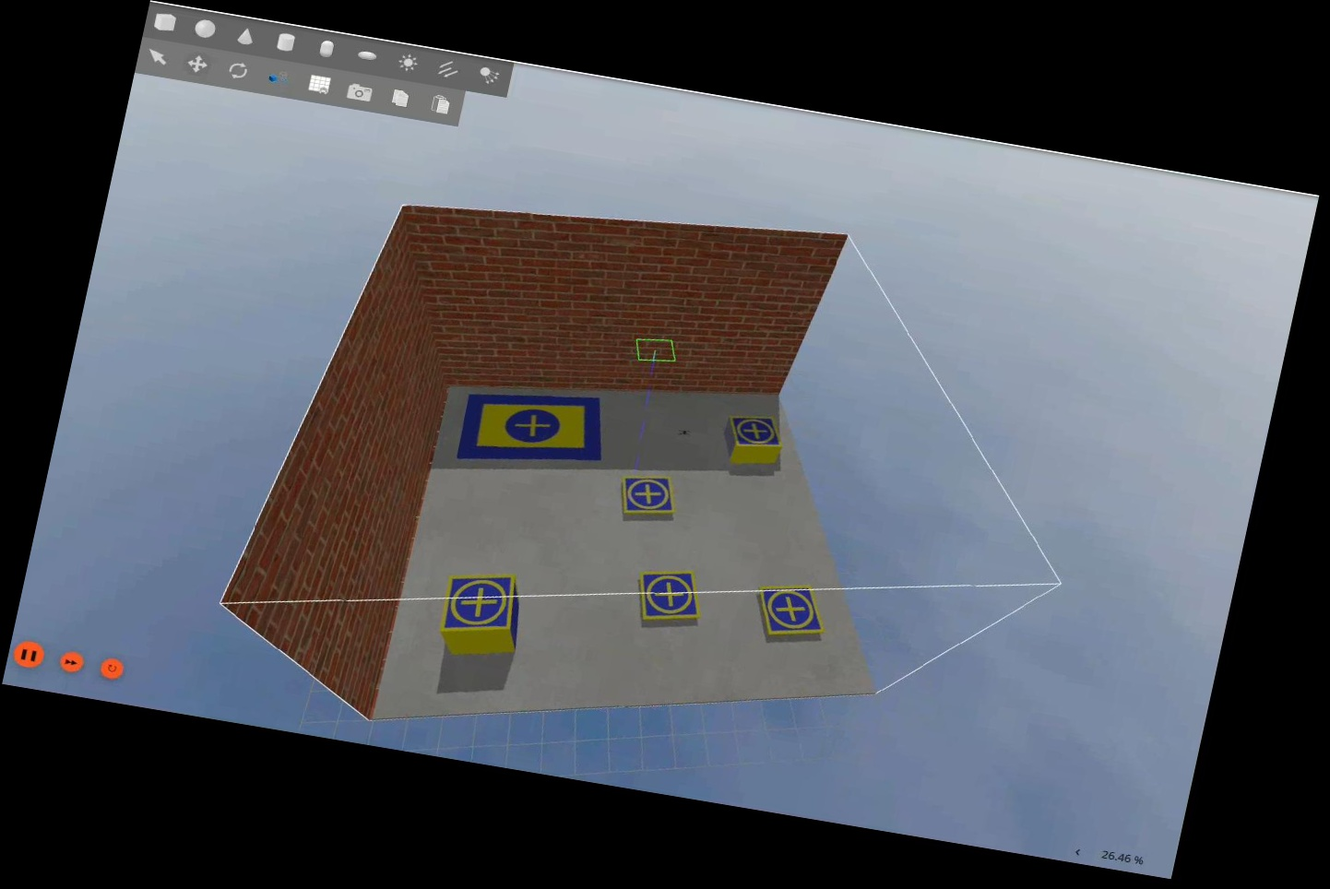large_base: (457, 378, 614, 482)
small_base: (437, 564, 525, 644), (751, 578, 834, 646), (631, 564, 710, 631), (614, 470, 683, 523), (722, 410, 789, 456)
